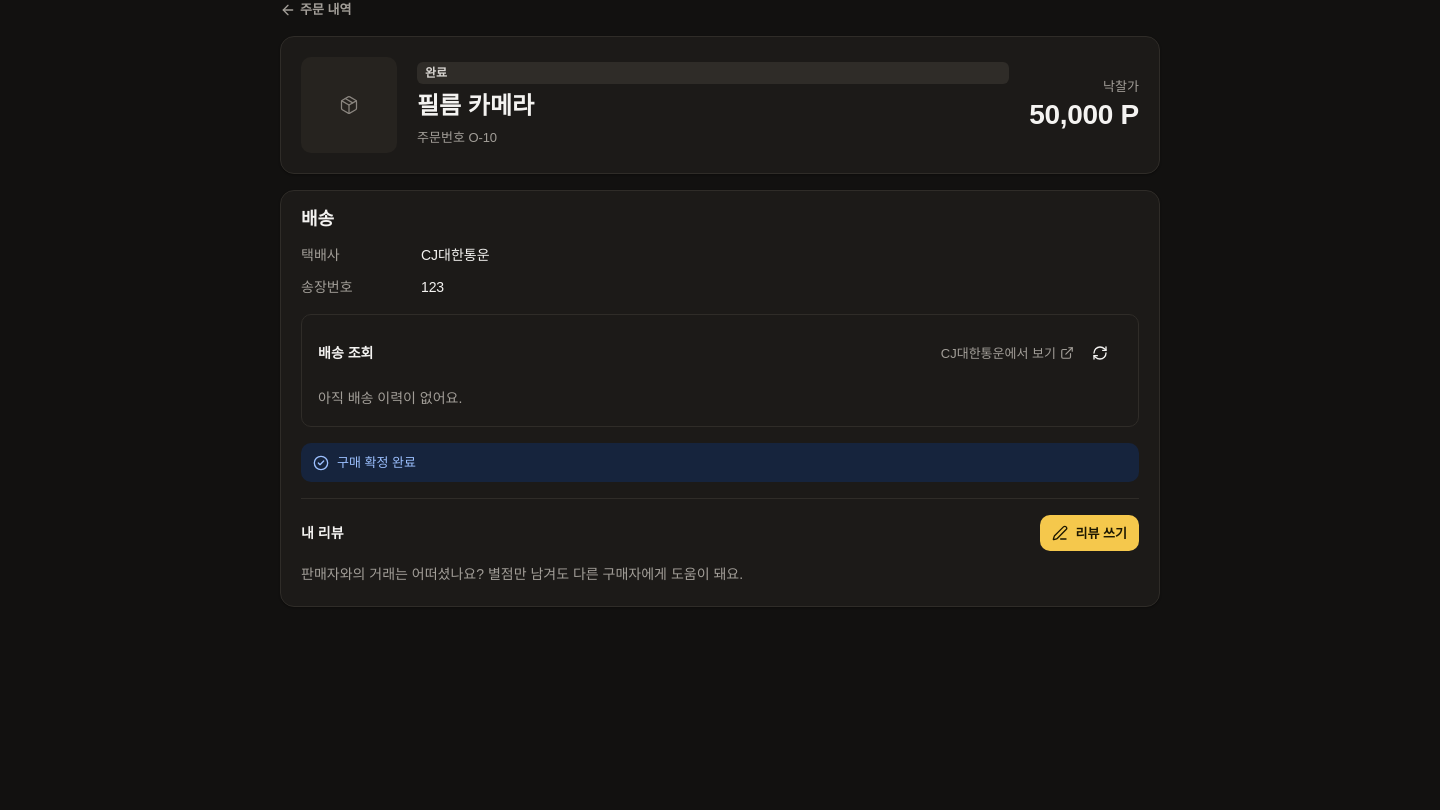
Test: 주문 리뷰 쓰기 › 이미 리뷰를 쓴 주문이면(REVIEW_004) 안내하고, 그 리뷰를 불러와 보여준다
Step 1. Click the button "리뷰 쓰기" → x=1089, y=533, box [1040,515,1139,551]
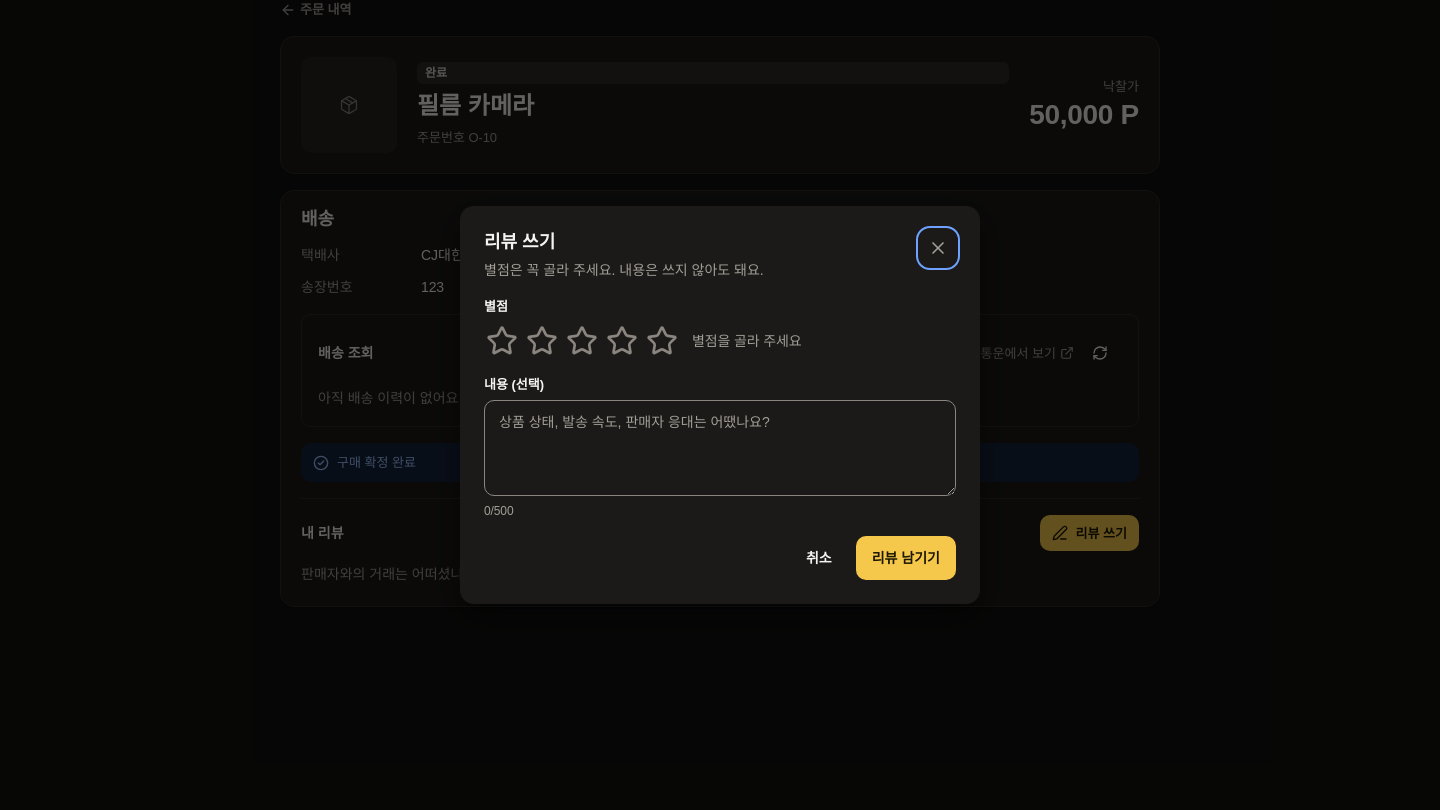
Step 2. Click the radio button named "3점" → x=582, y=341, box [564,323,600,359]
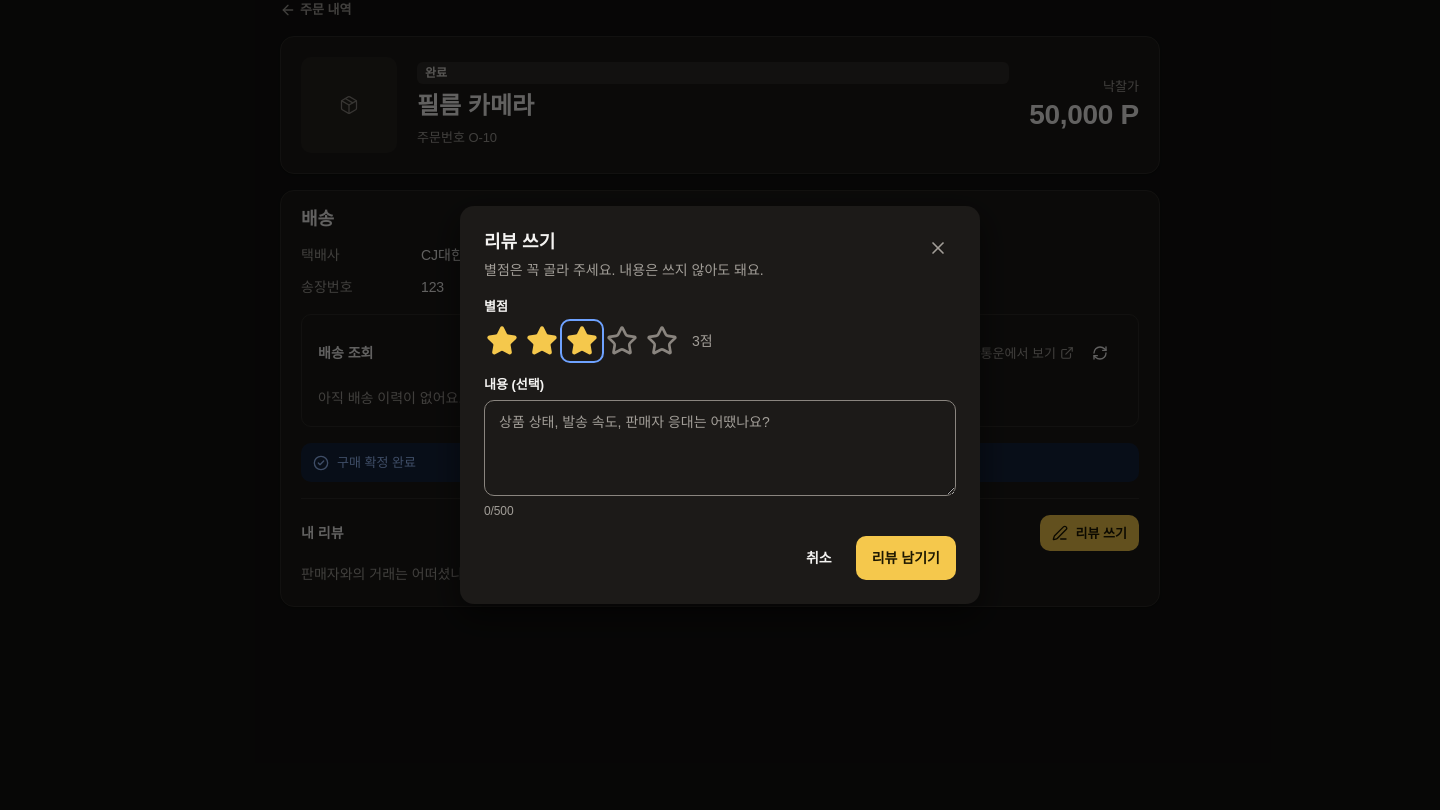
Step 3. Click the button "리뷰 남기기" → x=906, y=558, box [856,536,956,580]
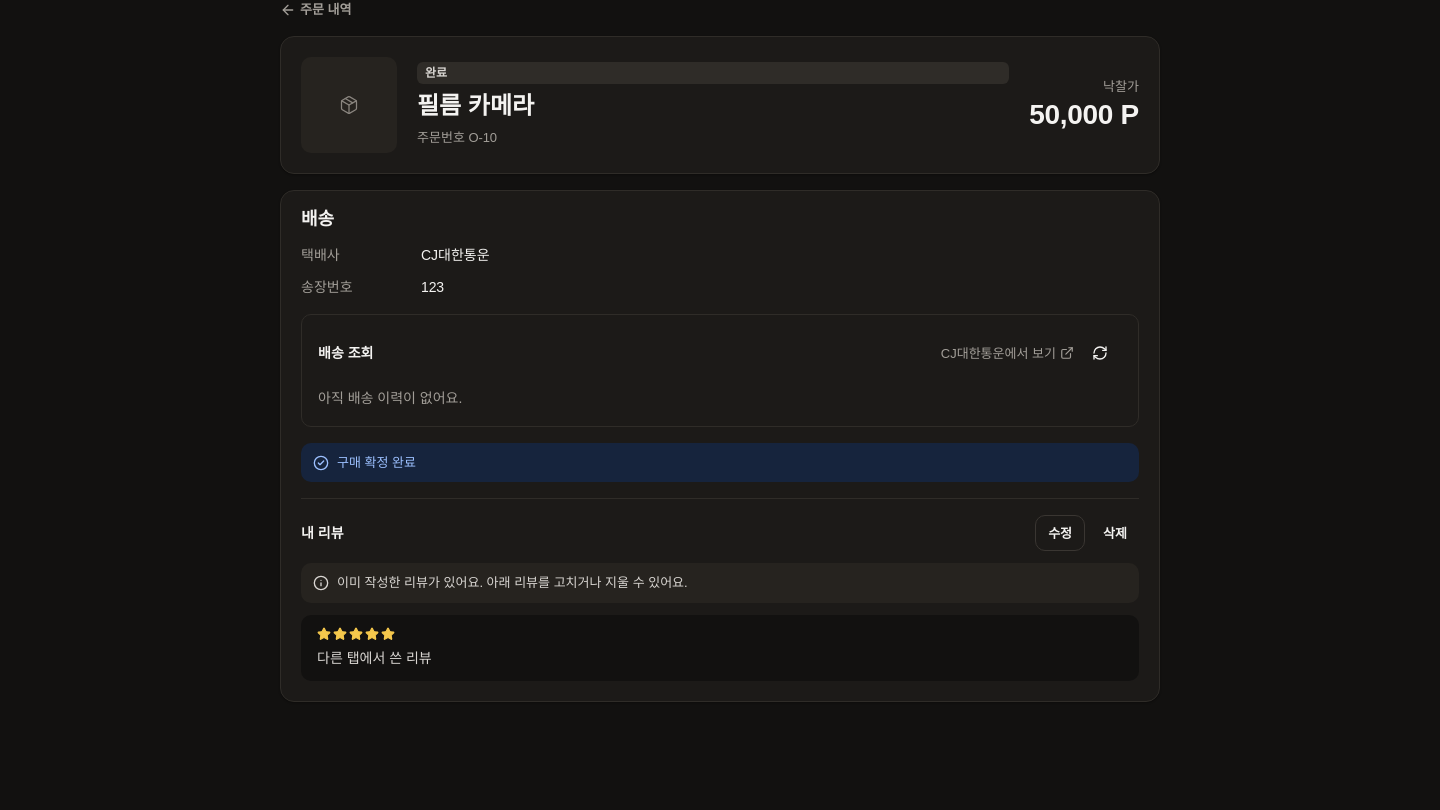
Expected: the text "다른 탭에서 쓴 리뷰" is shown, [317,650,432,666]
Expected: the text "이미 작성한 리뷰가 있어요. 아래 리뷰를 고치거나 지울 수 있어요." is shown, [337,573,688,593]
Expected: the button "수정" is shown, [1035,515,1085,551]
